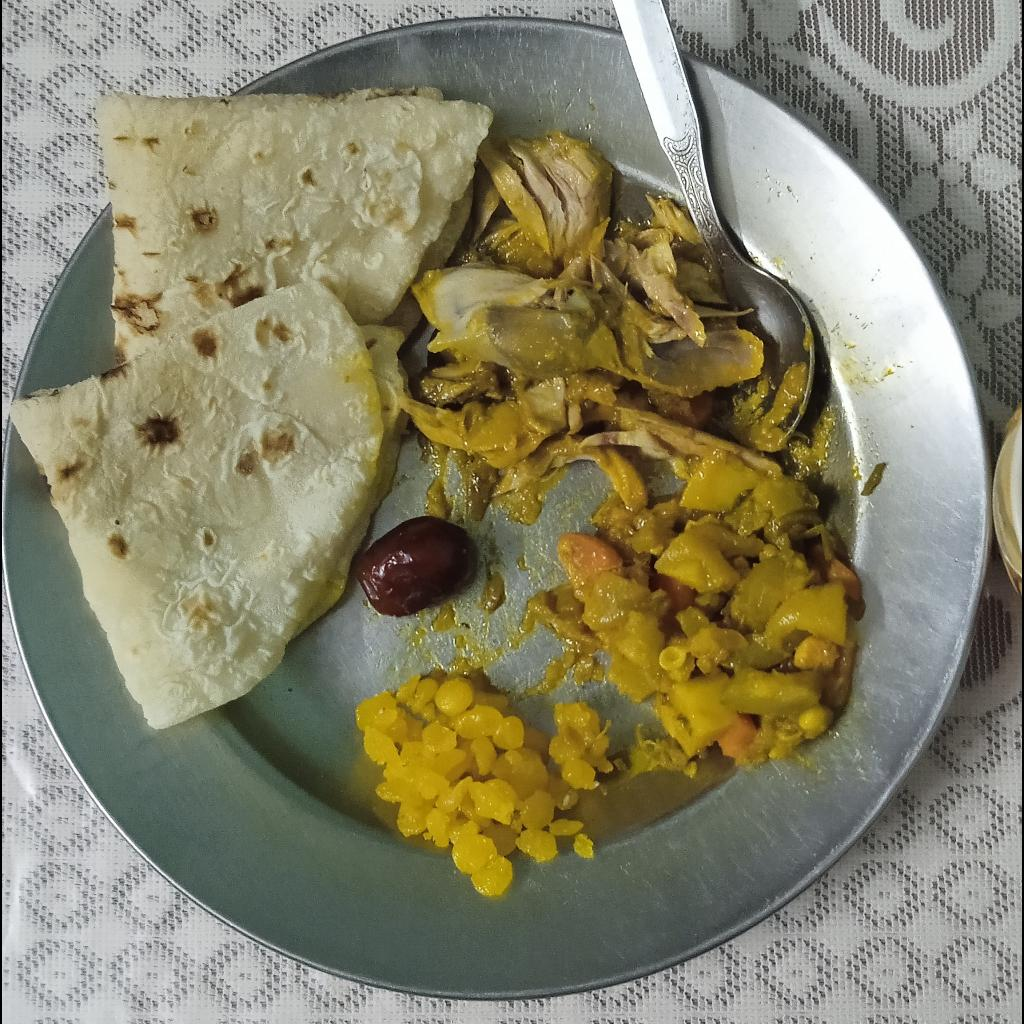burinda: (355, 672, 614, 898)
chicken: (410, 133, 786, 502)
dates: (355, 516, 473, 618)
ruti: (8, 85, 494, 732)
vegetable: (530, 452, 864, 779)
